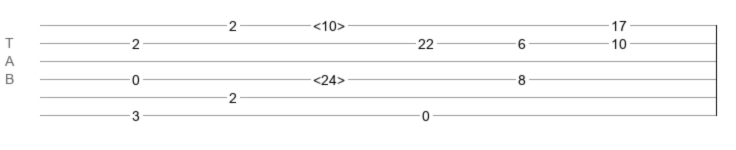0: (132, 72, 140, 82), (422, 108, 430, 118)
10: (611, 36, 627, 46)
17: (611, 18, 627, 28)
2: (132, 36, 140, 46), (229, 90, 237, 100), (229, 18, 237, 28)
22: (418, 36, 434, 46)
3: (132, 108, 140, 118)
6: (518, 36, 526, 46)
8: (518, 72, 526, 82)
harmonic: (313, 72, 345, 82), (313, 18, 345, 28)
